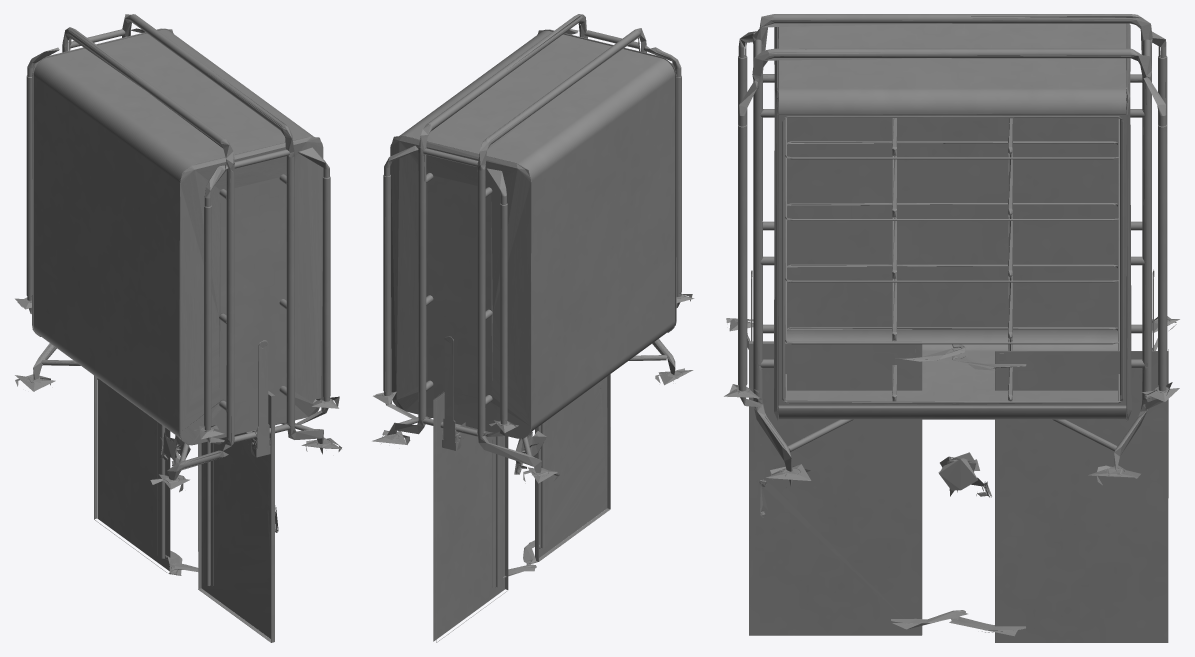
File: cart_mobile_f01.glb
3 views of the same model, side by side, from view 1: azimuth 30°, elevation 25°; view 2: azimuth 150°, elevation 25°; view 3: azimuth 270°, elevation 25° (orthographic). The views are drawn at different scales.
Visible parts, largest first — view 1: geometry_0; view 2: geometry_0; view 3: geometry_0.
Part boxes in pixels (x1,y1,x2,y2): geometry_0: [15, 14, 341, 642]; geometry_0: [372, 14, 694, 642]; geometry_0: [724, 14, 1179, 642].
Size of the model in its own units: 0.1594 by 0.42 by 0.2876.
1 material, 1 textured.
